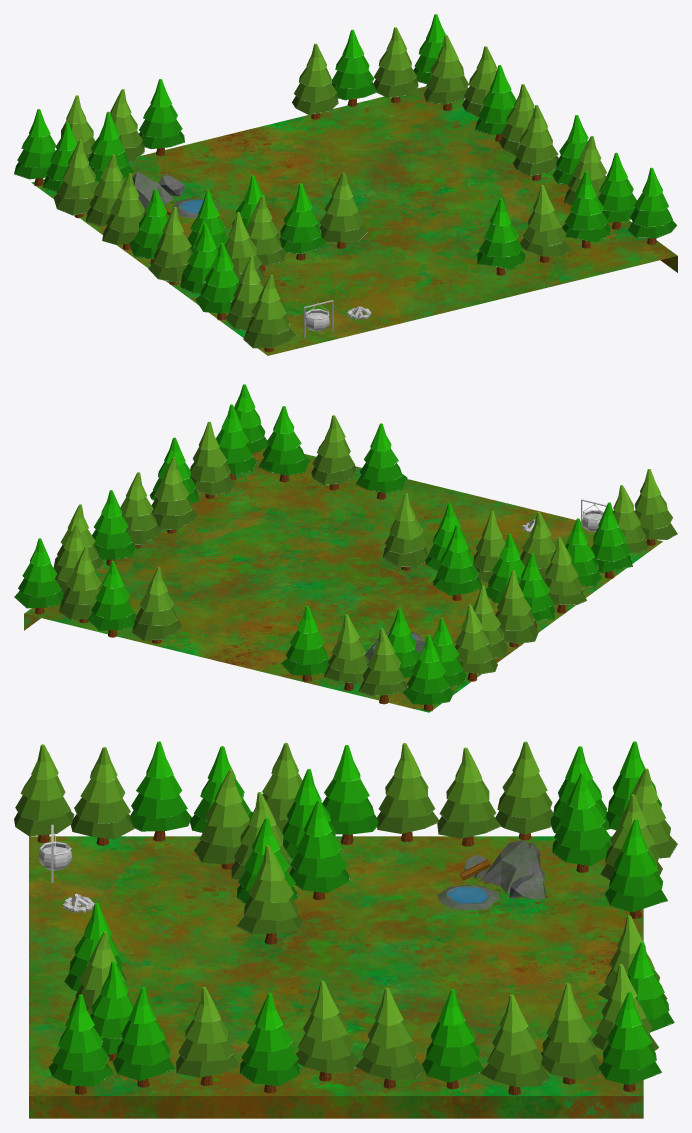
File: lvl_0-cnk1.obj
3 views of the same model, one above another, from view 1: azimuth 30°, elevation 25°; view 2: azimuth 150°, elevation 25°; view 3: azimuth 270°, elevation 25° (orthographic). The views are drawn at different scales.
Parts seen in each view (by area): view 1: Cube.008, Arbol_1.045, Arbol_1.092, Arbol_1.076, Arbol_1.093, Arbol_1.089, Arbol_1.072, Arbol_1.054, Arbol_1.060, Arbol_1.079, Arbol_1.064, Arbol_1.070 (+27 smaller); view 2: Cube.008, Arbol_1.072, Arbol_1.076, Arbol_1.066, Arbol_1.061, Arbol_1.085, Arbol_1.089, Arbol_1.078, Arbol_1.093, Arbol_1.070, Arbol_1.056, Arbol_1.060 (+26 smaller); view 3: Cube.008, Arbol_1.084, Arbol_1.083, Arbol_1.082, Arbol_1.046, Arbol_1.054, Arbol_1.060, Arbol_1.058, Arbol_1.076, Arbol_1.061, Arbol_1.053, Arbol_1.059 (+30 smaller).
Part boxes in pixels (x1=…): Cube.008: x1=31, y1=86, x2=677, y2=355; Arbol_1.045: x1=243, y1=274, x2=295, y2=352; Arbol_1.092: x1=519, y1=185, x2=571, y2=262; Arbol_1.076: x1=319, y1=172, x2=367, y2=248; Arbol_1.093: x1=476, y1=198, x2=525, y2=275; Arbol_1.089: x1=562, y1=171, x2=611, y2=248; Arbol_1.072: x1=292, y1=43, x2=338, y2=119; Arbol_1.054: x1=628, y1=167, x2=676, y2=244; Arbol_1.060: x1=513, y1=105, x2=558, y2=180; Arbol_1.079: x1=373, y1=27, x2=418, y2=102; Arbol_1.064: x1=53, y1=139, x2=97, y2=218; Arbol_1.070: x1=139, y1=79, x2=184, y2=155; Cube.008: x1=24, y1=448, x2=662, y2=712; Arbol_1.072: x1=132, y1=567, x2=182, y2=643; Arbol_1.076: x1=383, y1=493, x2=427, y2=570; Arbol_1.066: x1=402, y1=635, x2=454, y2=711; Arbol_1.061: x1=432, y1=524, x2=481, y2=600; Arbol_1.085: x1=14, y1=538, x2=63, y2=614; Arbol_1.089: x1=258, y1=406, x2=310, y2=482; Arbol_1.078: x1=87, y1=560, x2=136, y2=637; Arbol_1.093: x1=355, y1=423, x2=407, y2=499; Arbol_1.070: x1=281, y1=606, x2=329, y2=681; Arbol_1.056: x1=190, y1=421, x2=234, y2=498; Arbol_1.060: x1=151, y1=457, x2=197, y2=533; Cube.008: x1=29, y1=836, x2=643, y2=1118; Arbol_1.084: x1=541, y1=983, x2=600, y2=1084; Arbol_1.083: x1=480, y1=994, x2=549, y2=1095; Arbol_1.082: x1=355, y1=987, x2=424, y2=1088; Arbol_1.046: x1=71, y1=747, x2=134, y2=845; Arbol_1.054: x1=48, y1=994, x2=113, y2=1094; Arbol_1.060: x1=296, y1=980, x2=359, y2=1081; Arbol_1.058: x1=240, y1=993, x2=301, y2=1093; Arbol_1.076: x1=236, y1=845, x2=304, y2=944; Arbol_1.061: x1=289, y1=800, x2=350, y2=900; Arbol_1.053: x1=437, y1=747, x2=501, y2=846; Arbol_1.059: x1=552, y1=772, x2=611, y2=872.
Size of the model in its own units: 108 by 21.19 by 107.
